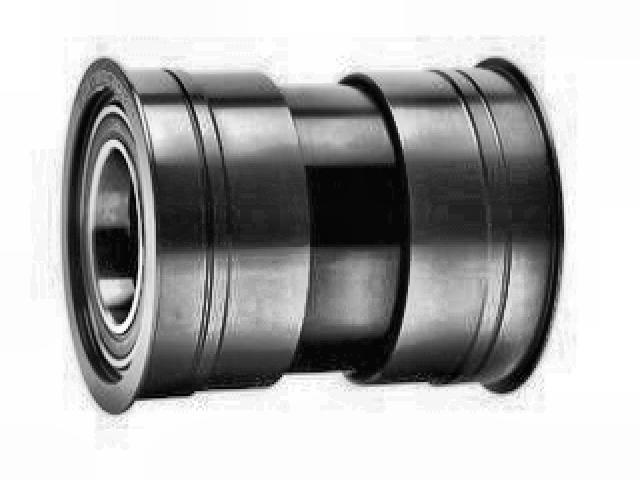bottom_bracket: (58, 51, 567, 415)
